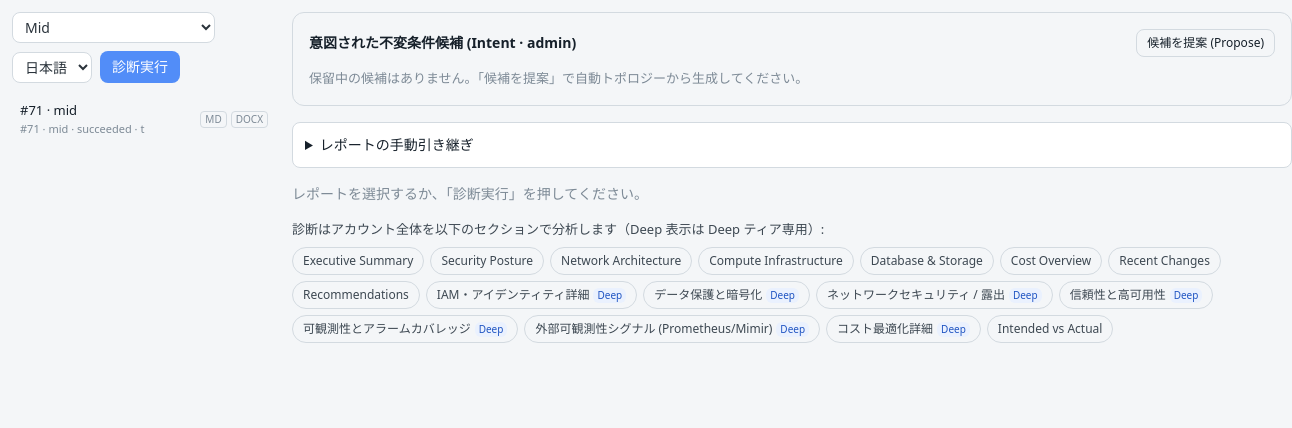
Test: DiagnosisView — invariant assessment coverage › uses assessment-specific passed labels in ja
The width and height of the screenshot is (1292, 428).
Click the button "#71 · mid #71 · mid · succeeded · t": (104, 119) [12,95,196,143]
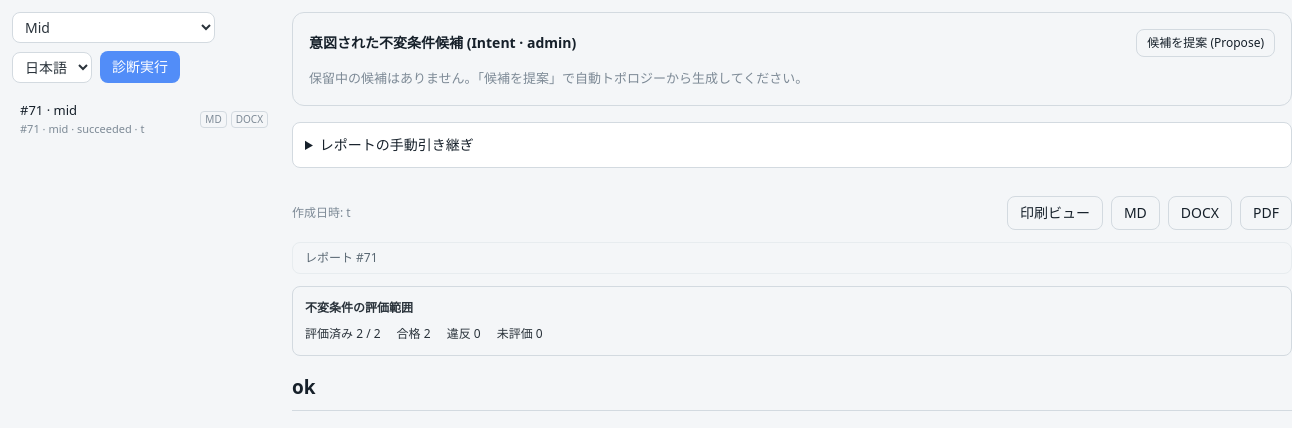
Check: the text "合格 2" is shown, box [397,324,431,342]
